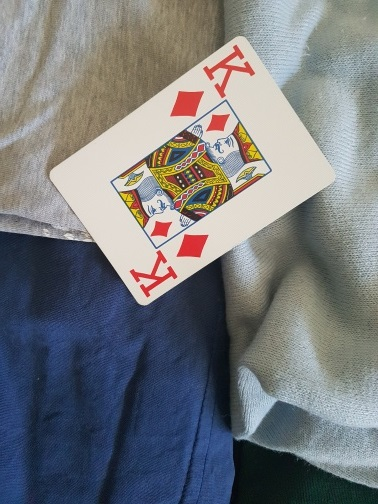king: (50, 36, 334, 304)
